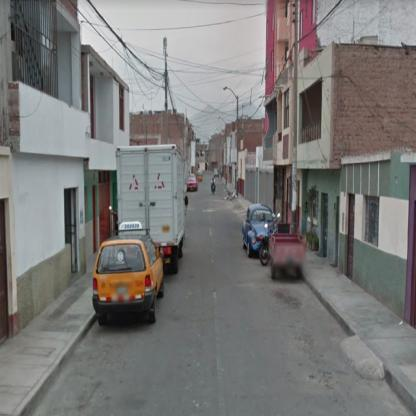Moto: (212, 179, 217, 195)
Pista: (30, 174, 410, 416)
Vehiculo: (117, 146, 186, 275), (95, 234, 165, 329), (242, 203, 280, 258), (187, 175, 198, 194), (197, 171, 204, 183)
